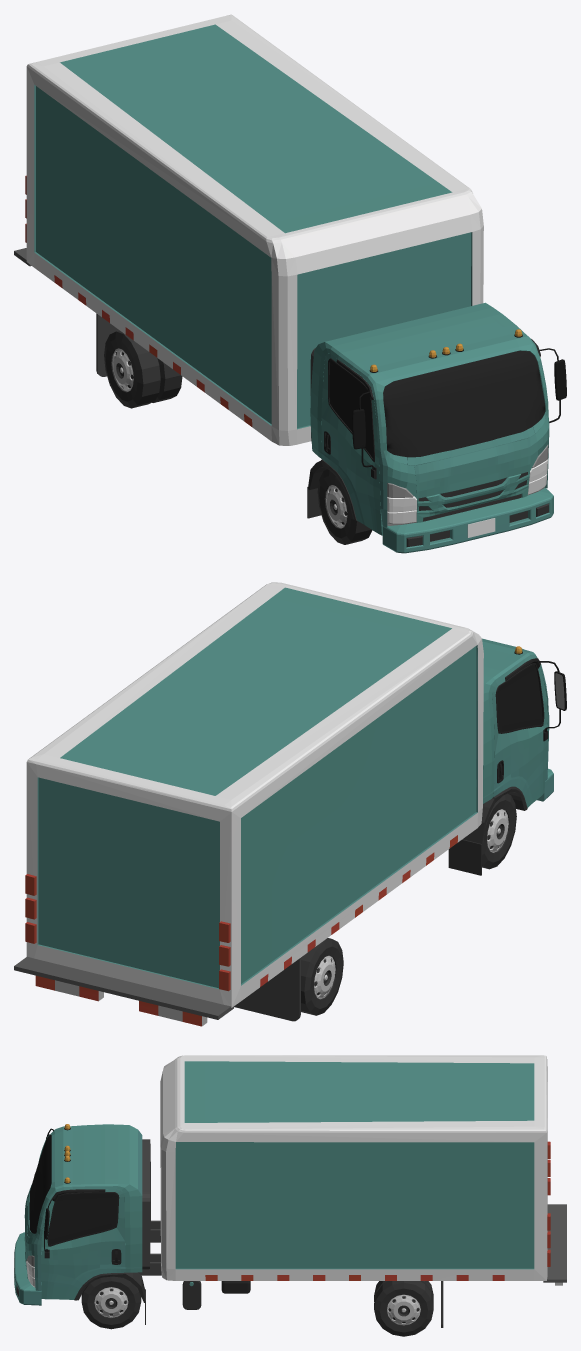
File: isuzu-truck.glb
The picture shows the model from 3 angles, top to bottom: view 1: azimuth 30°, elevation 25°; view 2: azimuth 150°, elevation 25°; view 3: azimuth 270°, elevation 25°; orthographic projection. The views are drawn at different scales.
Parts seen in each view (by area): view 1: isuzu_truck; view 2: isuzu_truck; view 3: isuzu_truck.
Part boxes in pixels (box(x1,y1,x2,y2)): isuzu_truck: box(14, 14, 566, 553); isuzu_truck: box(14, 582, 566, 1026); isuzu_truck: box(14, 1055, 566, 1336).
Bounding box in the file's own units: 2.48 × 3.05 × 7.36.
2 materials, 1 textured.
